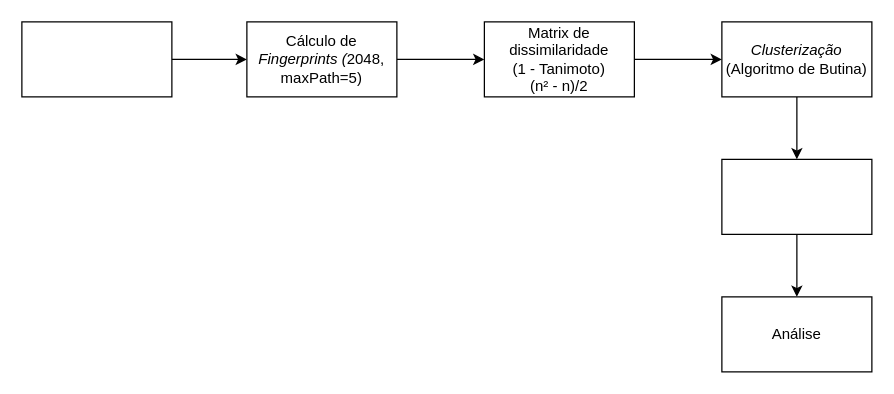
Some shapes in this 894 by 394 pixel diagram are drawn without their labels. Each missing label, with the centre of its shape:
Fármacos Aprovados Small Molecules n = 1875: [96,59]
Inspeção Visual do limiar: [796,196]
